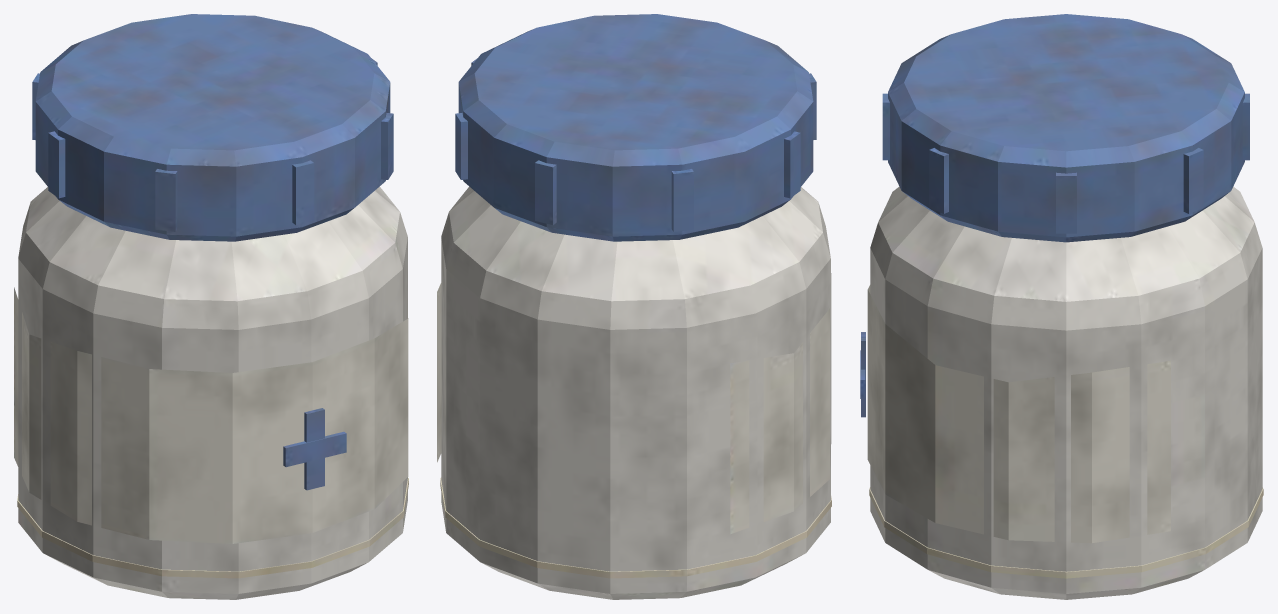
The model's file is HE02_hospital_pill_bottles_v2.glb.
The picture shows the model from 3 angles, left to right: view 1: azimuth 30°, elevation 25°; view 2: azimuth 150°, elevation 25°; view 3: azimuth 270°, elevation 25°; orthographic projection.
Parts seen in each view (by area): view 1: Moulded medicine bottle; view 2: Moulded medicine bottle; view 3: Moulded medicine bottle.
Part boxes in pixels (left/top/right/bottom): Moulded medicine bottle: left=14, top=14, right=408, bottom=599; Moulded medicine bottle: left=437, top=14, right=831, bottom=599; Moulded medicine bottle: left=860, top=14, right=1263, bottom=599.
Size of the model in its own units: 0.0804 by 0.1 by 0.0822.
Materials: 4 (4 with a texture image).
